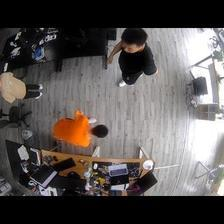normal: (107, 29, 154, 88), (49, 113, 108, 147), (1, 72, 43, 101)
